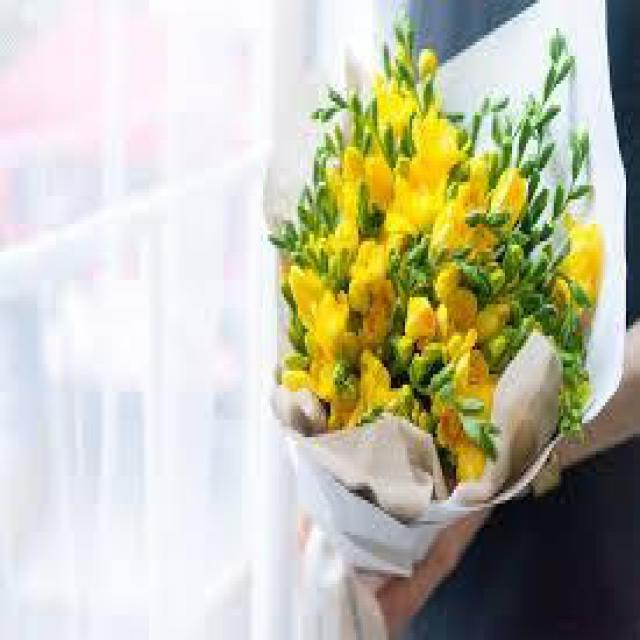freesia: (395, 140, 446, 220), (309, 284, 348, 349), (441, 285, 476, 354)
